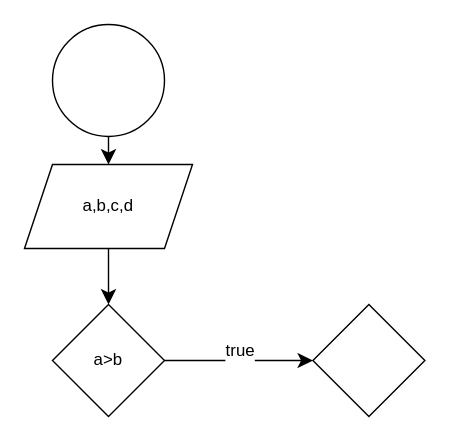
Some shapes in this 449 by 441 pixel diagram are drawn without their labels. The centre of each missing label's shape, as x and y in pixels:
"a>c" goes at (x=368, y=359).
"inizio" goes at (x=107, y=79).
